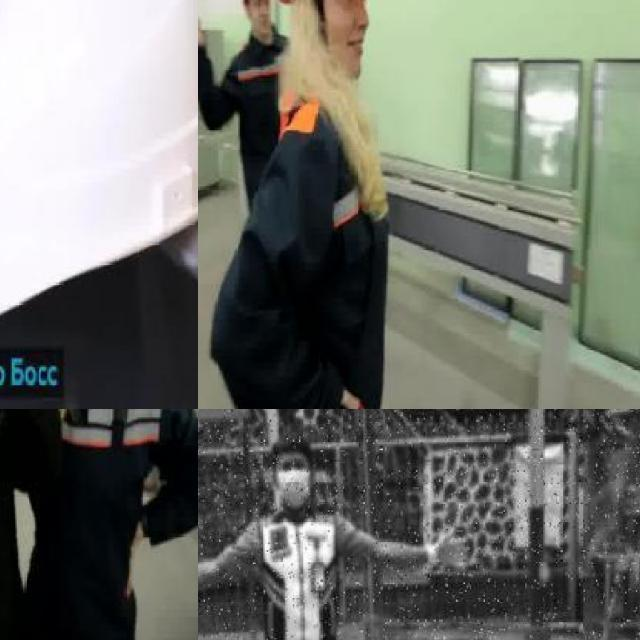apron: (164, 75, 198, 294), (424, 528, 472, 576)
